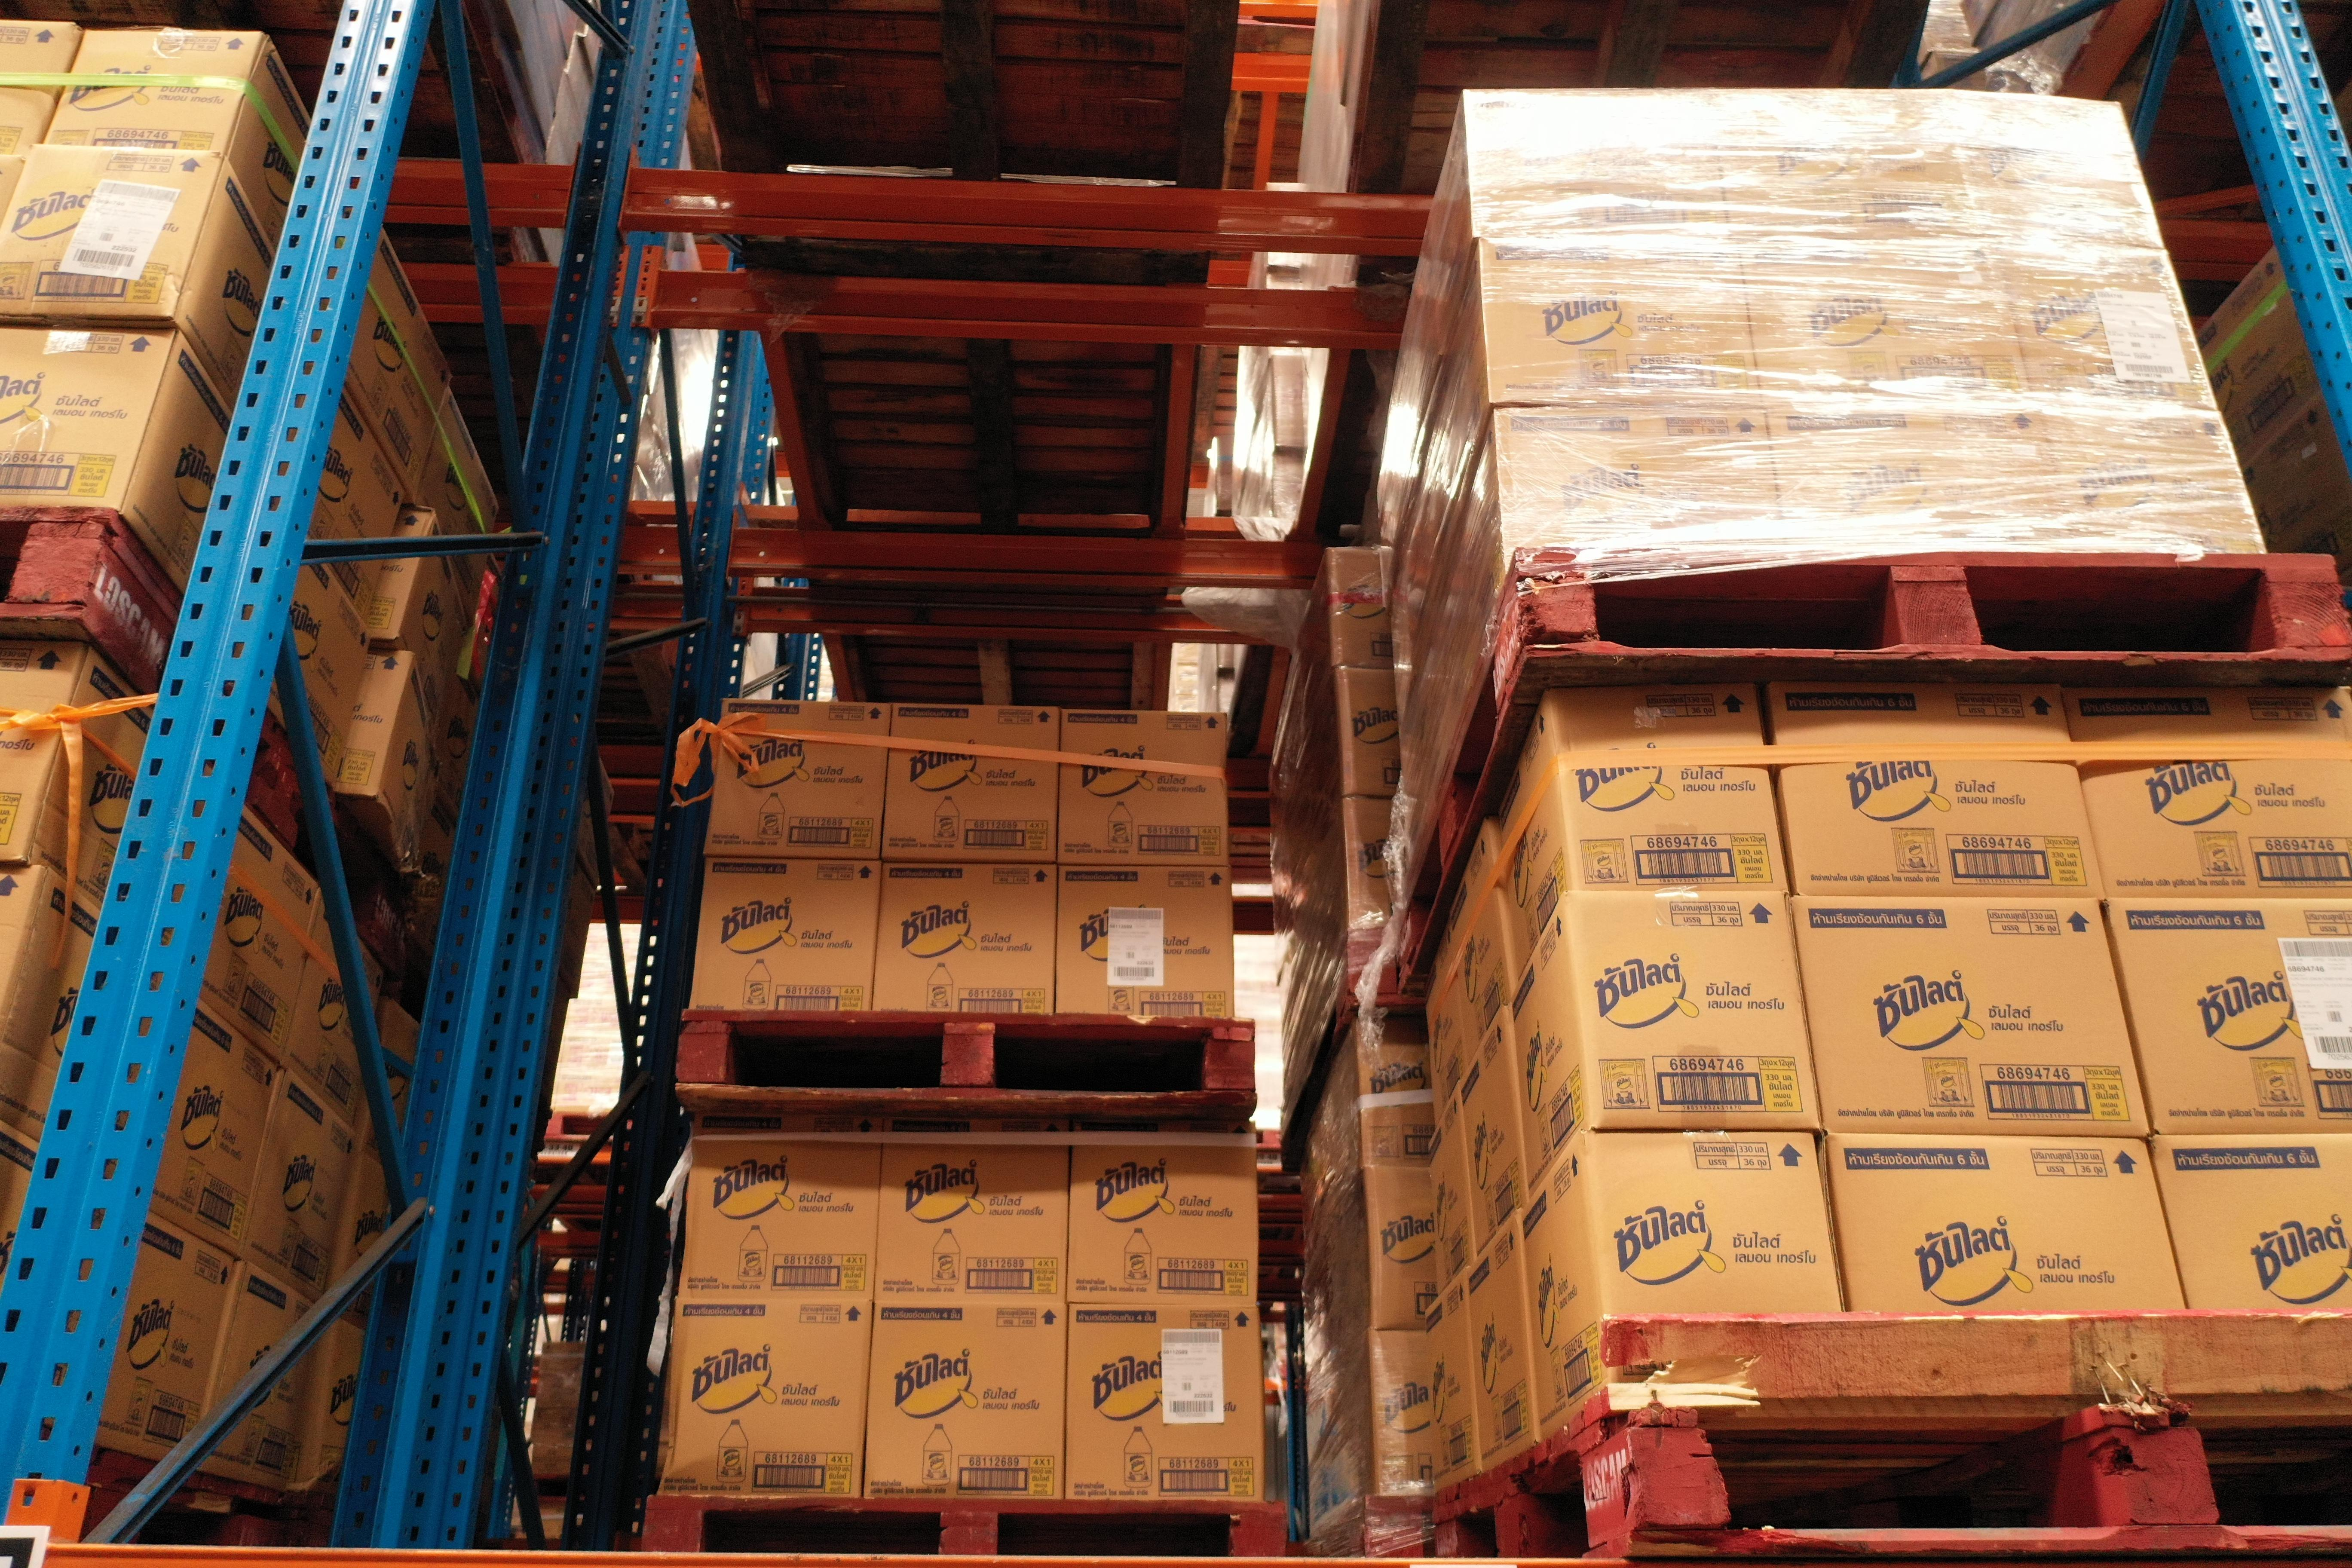-: (1794, 896, 2152, 1136), (1769, 679, 2105, 901), (1829, 1134, 2189, 1318), (2065, 679, 2352, 901), (1563, 889, 1820, 1130), (2109, 899, 2352, 1136), (1580, 1127, 1841, 1323), (1739, 238, 2037, 409), (1547, 686, 1787, 894), (1473, 236, 1762, 408), (1494, 404, 1787, 570), (1762, 408, 2077, 553), (1711, 87, 1986, 245), (1461, 86, 1732, 241), (1995, 236, 2222, 413), (2151, 1130, 2352, 1314), (1955, 89, 2165, 248), (2040, 408, 2266, 555)
box: (656, 1302, 875, 1496), (863, 1298, 1073, 1500), (1064, 1302, 1265, 1507), (679, 1113, 884, 1304), (873, 1111, 1073, 1304), (1067, 1111, 1258, 1304), (702, 693, 892, 859), (688, 854, 884, 1013), (873, 856, 1059, 1015), (882, 700, 1062, 863), (1055, 703, 1228, 866), (1055, 864, 1235, 1017)
